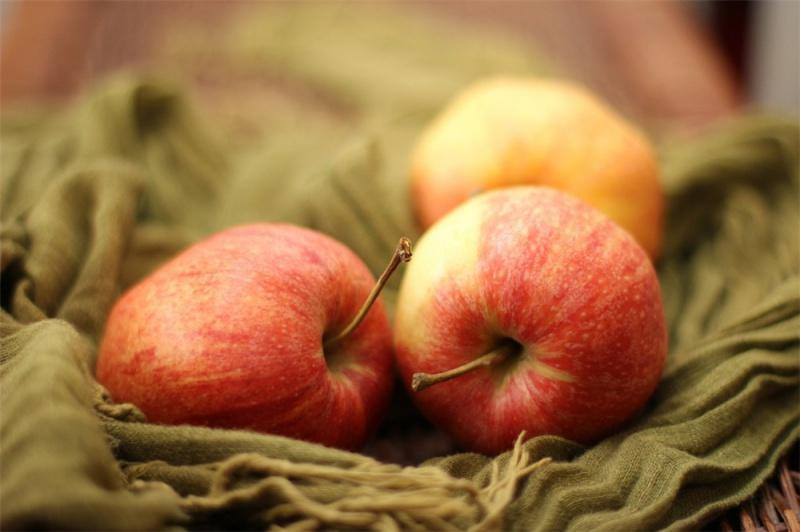apple: (388, 177, 669, 454), (89, 220, 398, 456)
